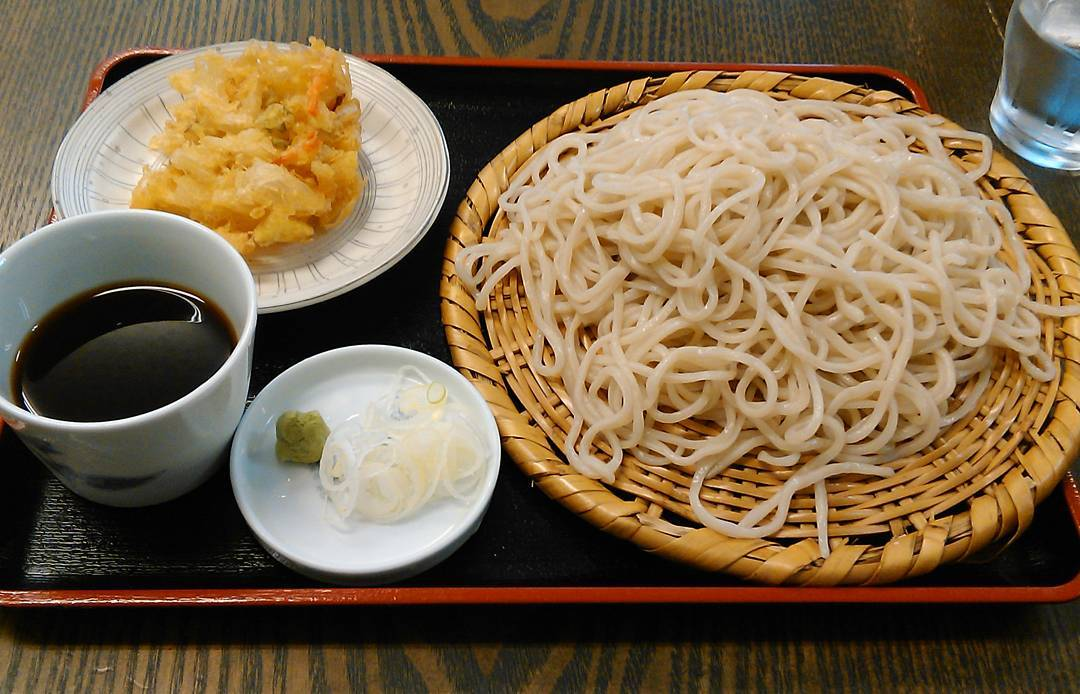Soba: (493, 84, 1080, 534)
